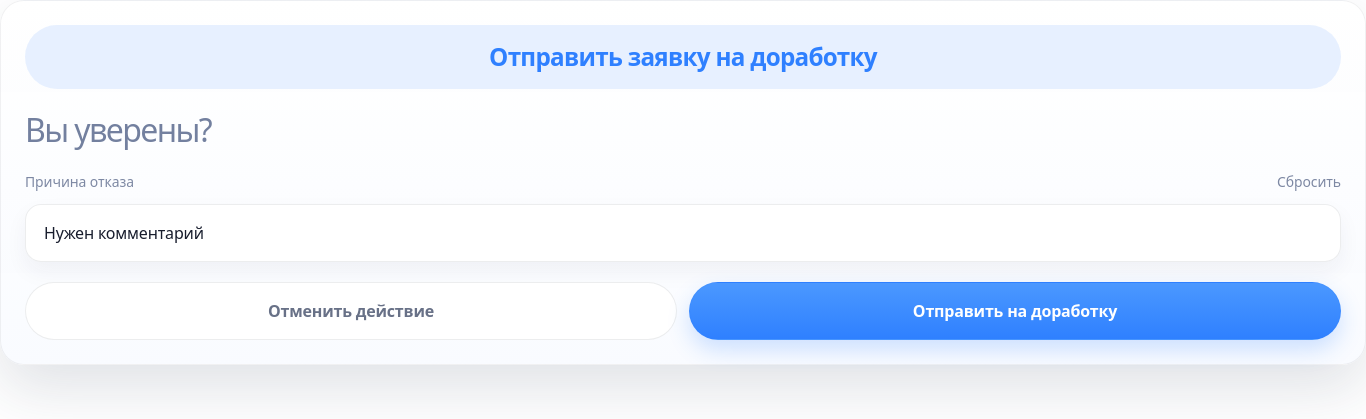
Scenario: ModerationActionDialog › resets the reason field and blocks confirmation when the reason is required
Click the button "Сбросить": (1309, 182) 1277,172 -> 1341,192
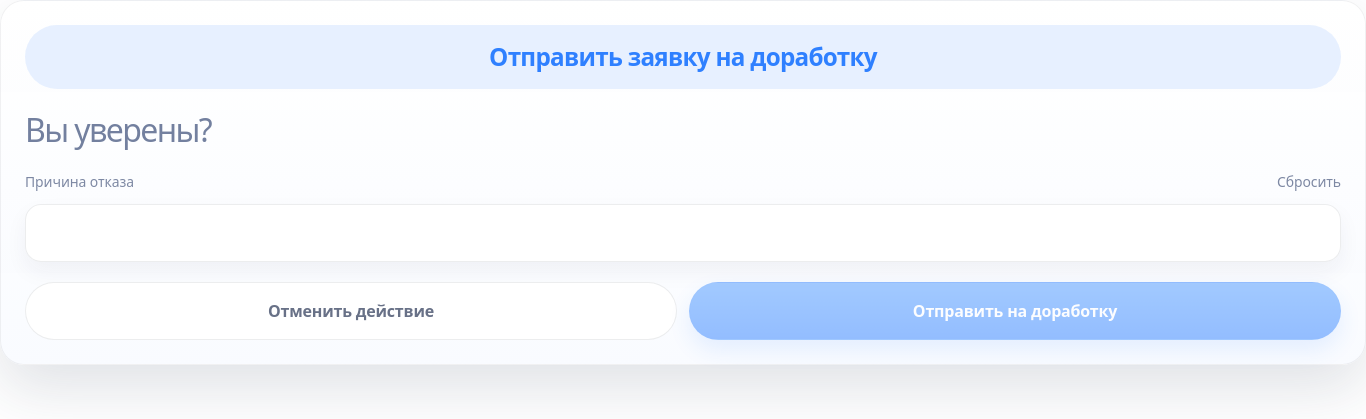
Expected: the field labelled "Причина отказа" is empty, 25,204 -> 1341,262
Expected: the button "Отправить на доработку" is disabled, 689,282 -> 1341,340
